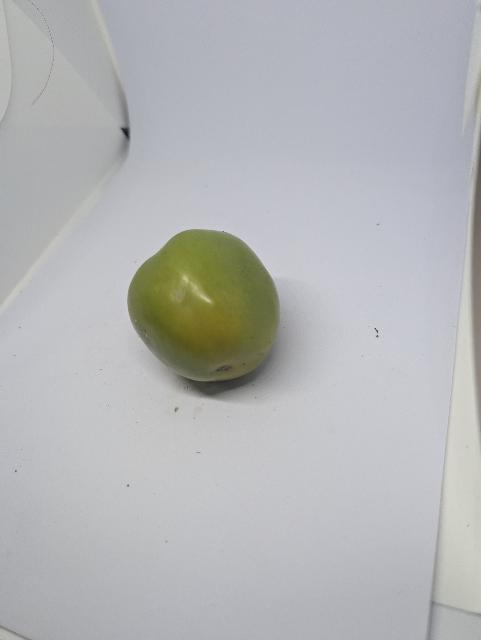green: (127, 226, 285, 383)
